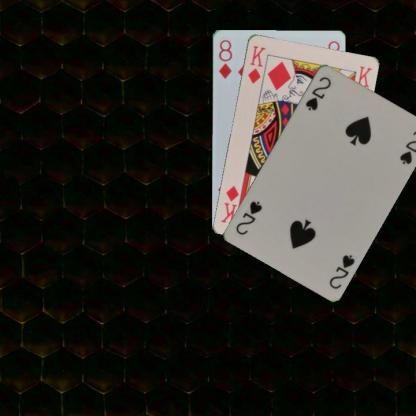2s: (326, 251, 356, 290), (302, 74, 332, 112)
8d: (216, 37, 234, 80)
Kd: (245, 43, 267, 85)
